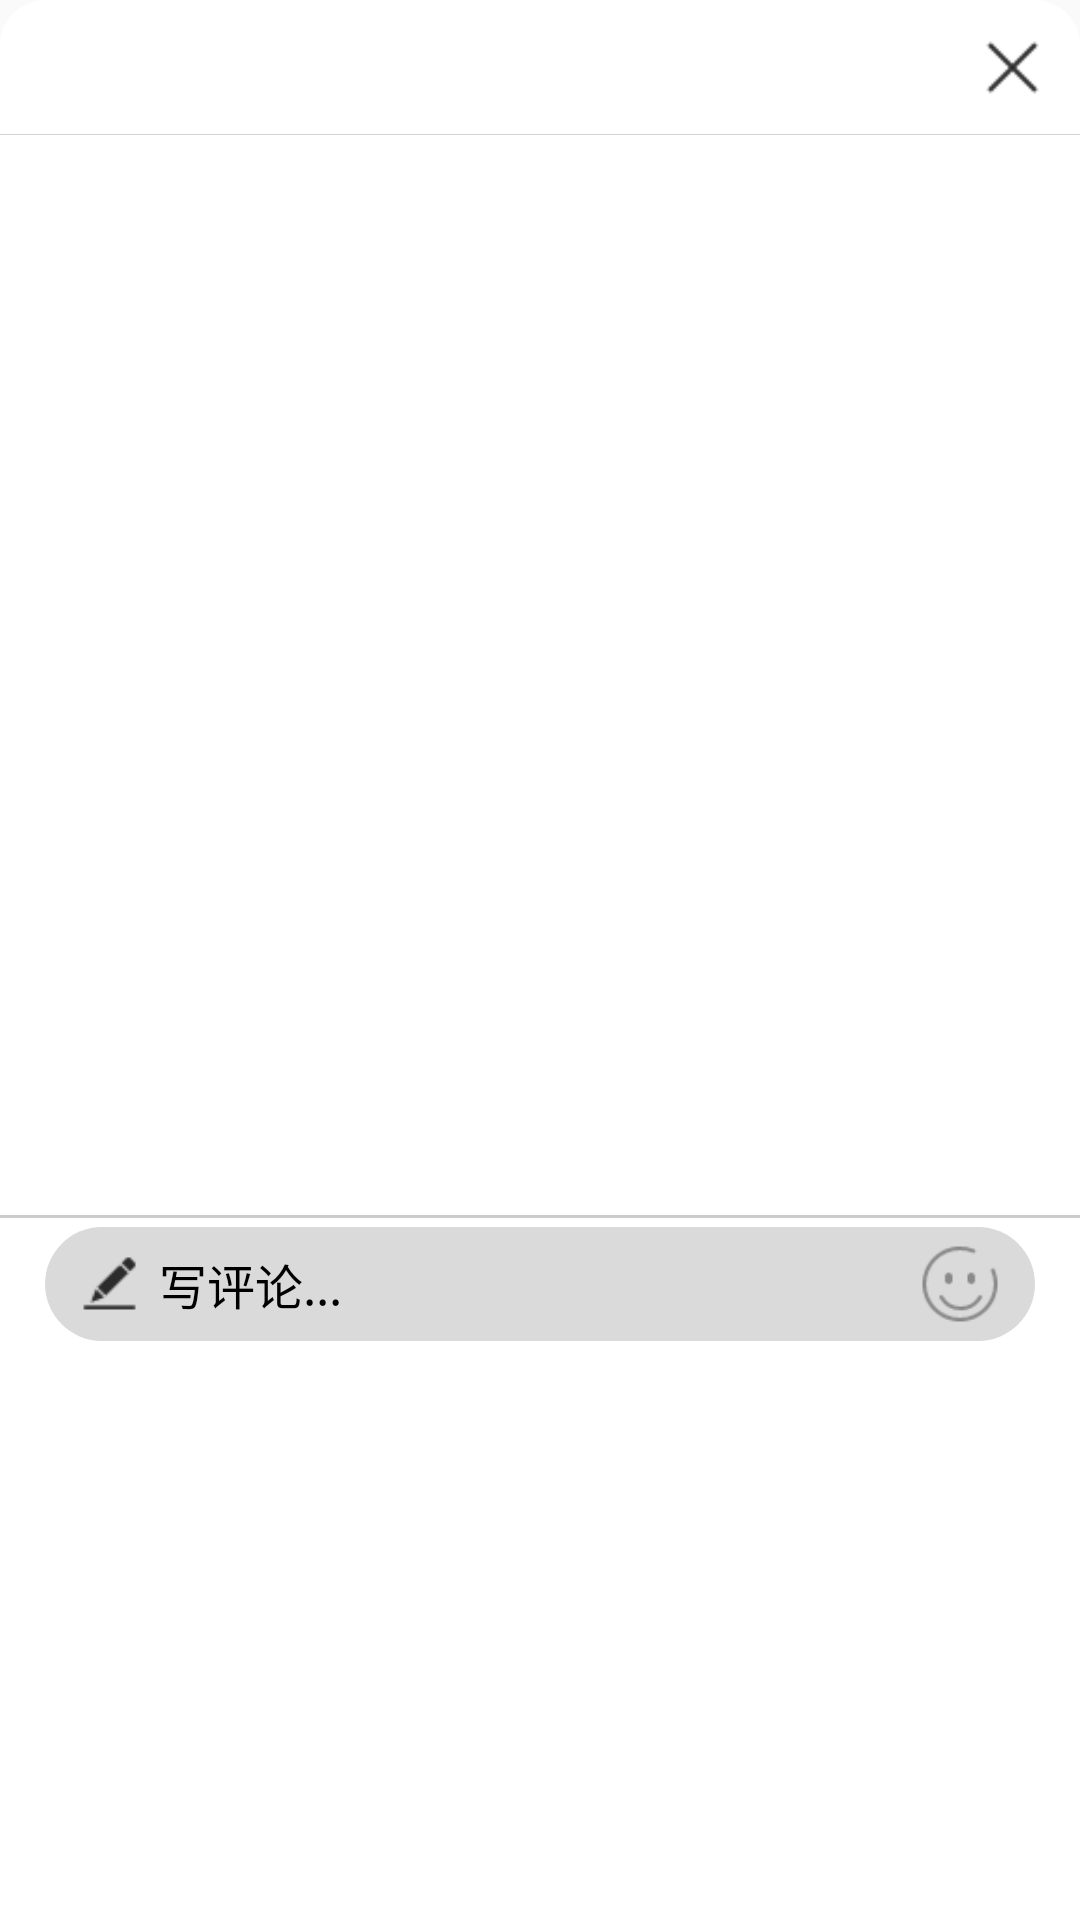

Where to tap for icons on this 1080px x 1920px app screen, as (x=x, y=y):
edit comment content: (x=109, y=1283)
exit comment content: (x=1012, y=67)
expression comment content: (x=960, y=1284)
